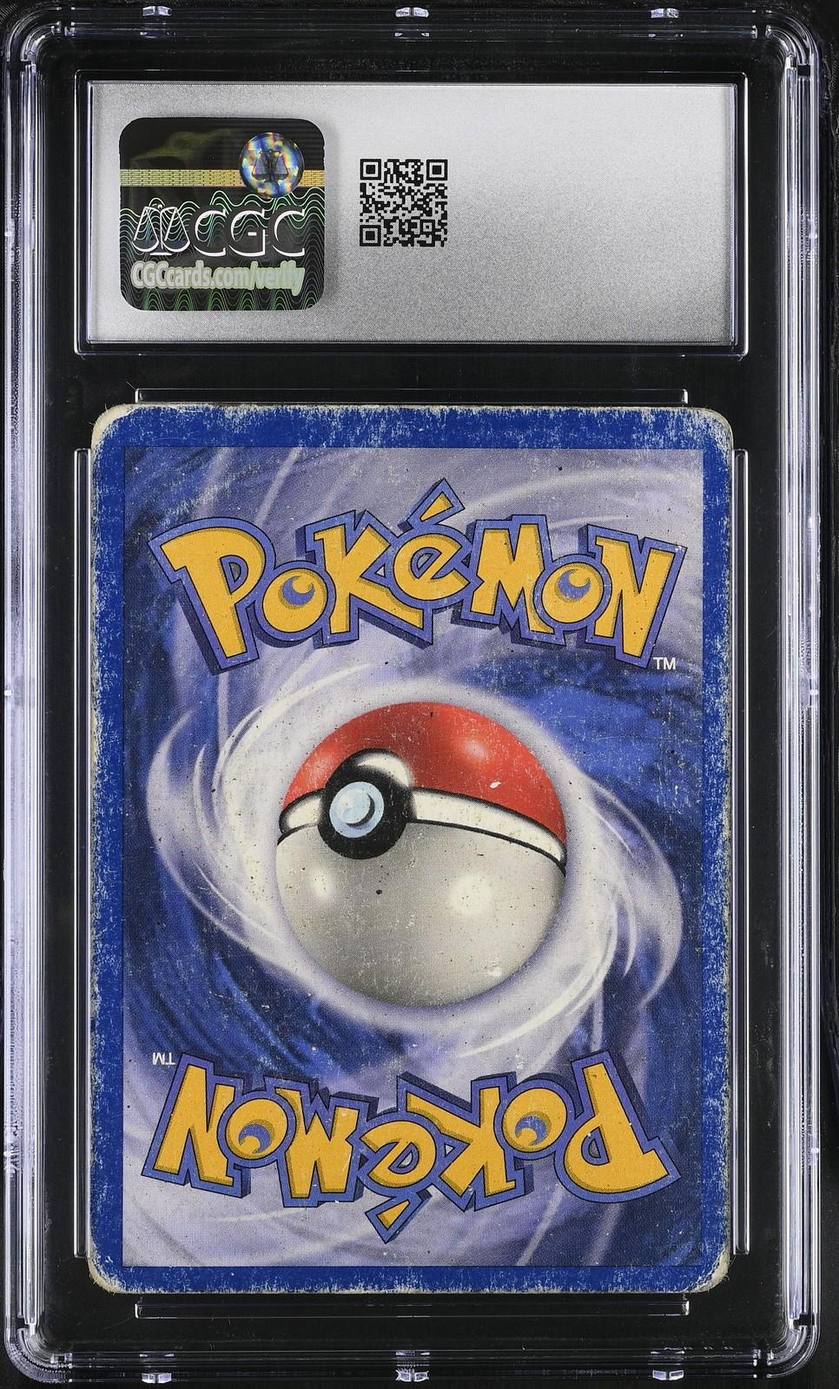card-2UtV: (88, 403, 734, 1295)
